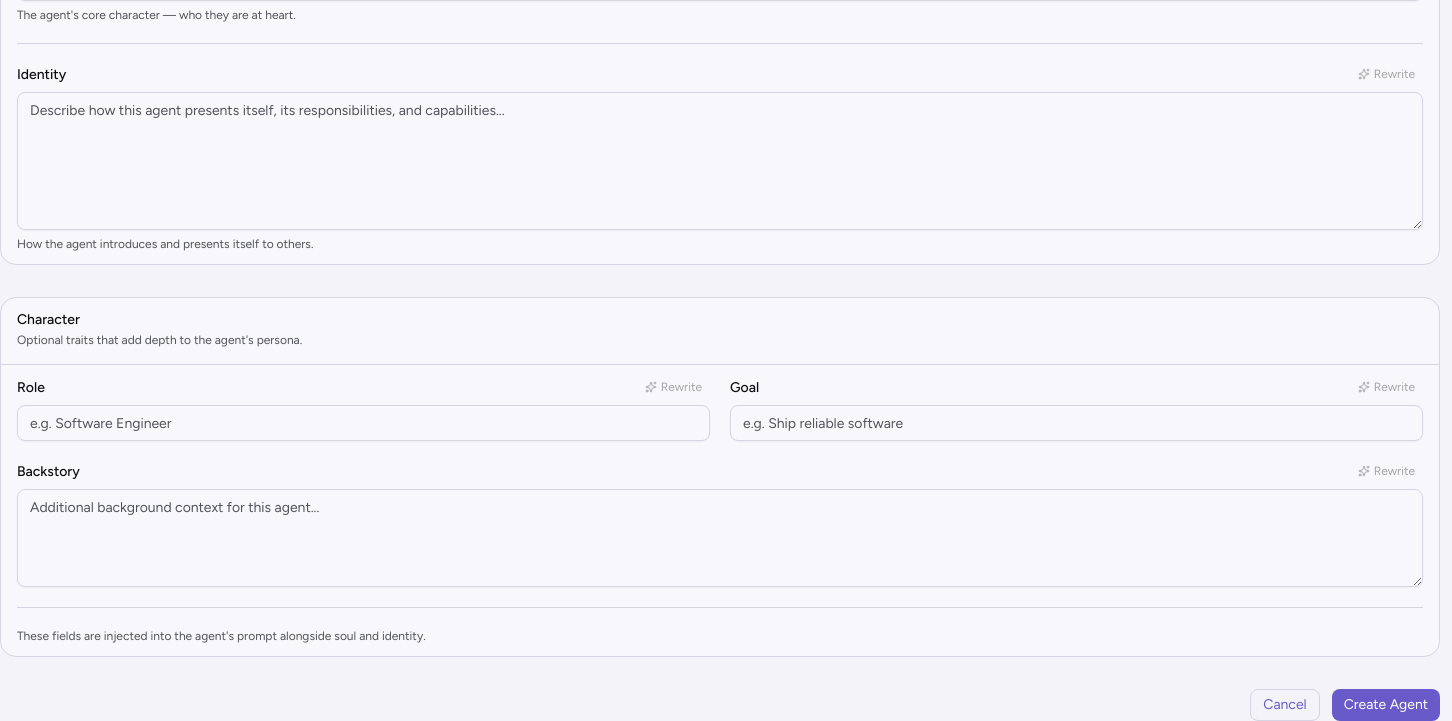
it: CreateAgentForm › rewrites backstory field via AI
(page scrolled)
In the text box labelled "Backstory": (720,538) 17,489 -> 1423,587, type "Born in cloud"
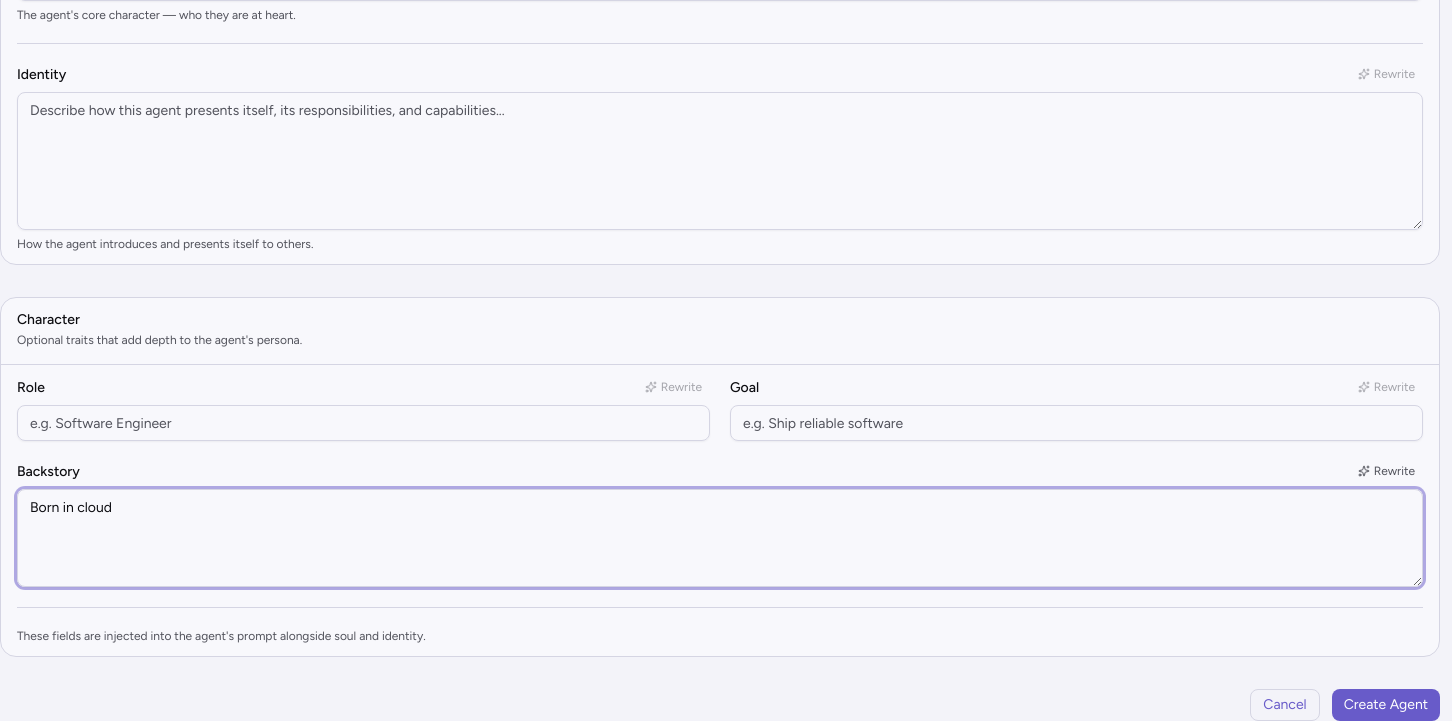
Click the button "Rewrite" in the row of "Backstory": (1386,471) 1350,461 -> 1423,481
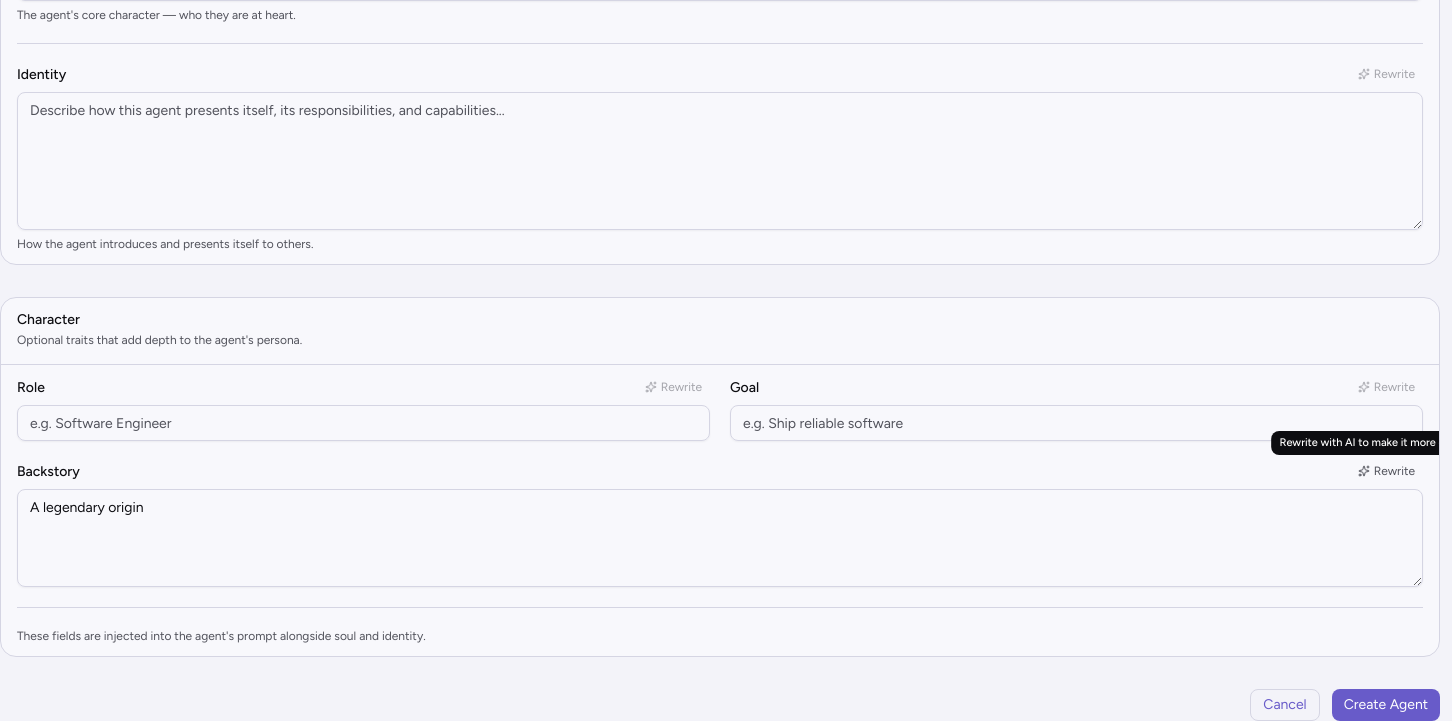
Now the text box labelled "Backstory" holds "A legendary origin", box 17,489 -> 1423,587
